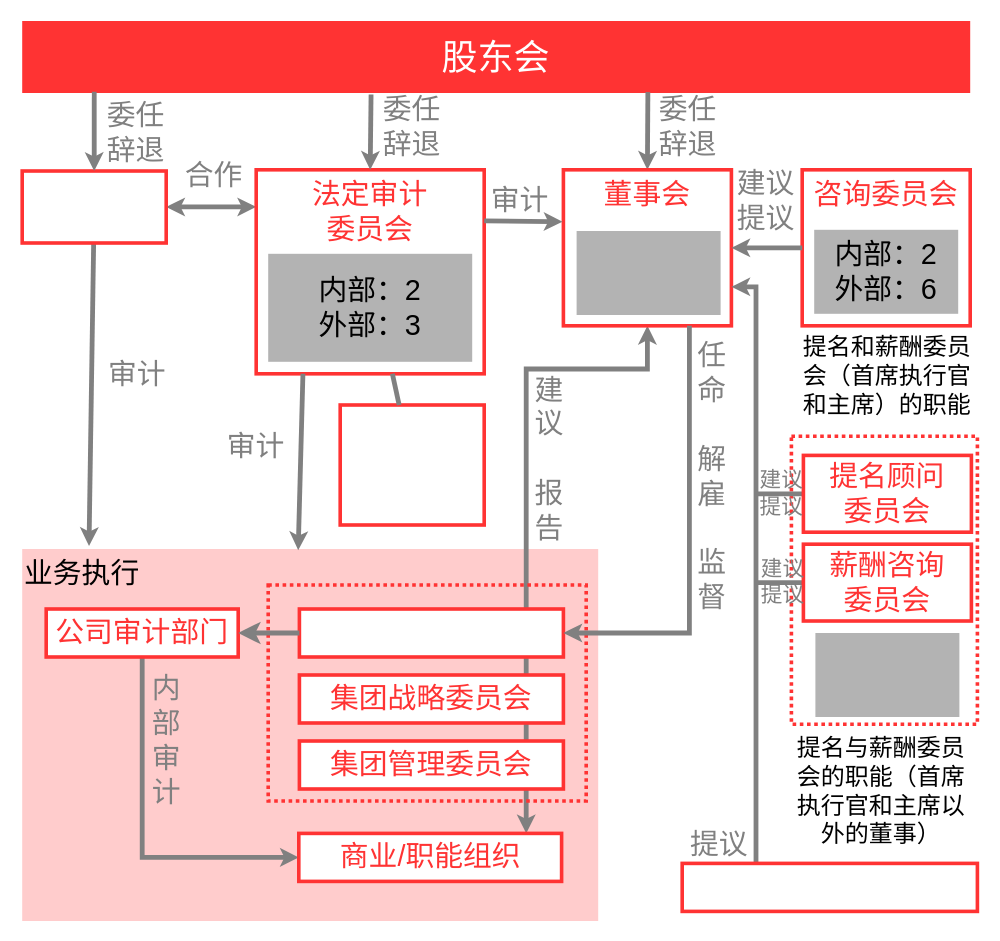
This 1000x941 diagram has some shape labels left out. Here are the shapes that lost their labels. From the top down, the centre of each, then its label:
At point 93,206: "会计 审计师".
At point 648,272: "内部：5 外部：4".
At point 411,464: "帝人集团法定审计委员会".
At point 431,632: "CEO".
At point 887,674: "内部：1 外部：2".
At point 829,887: "全面风险管理委员会".
